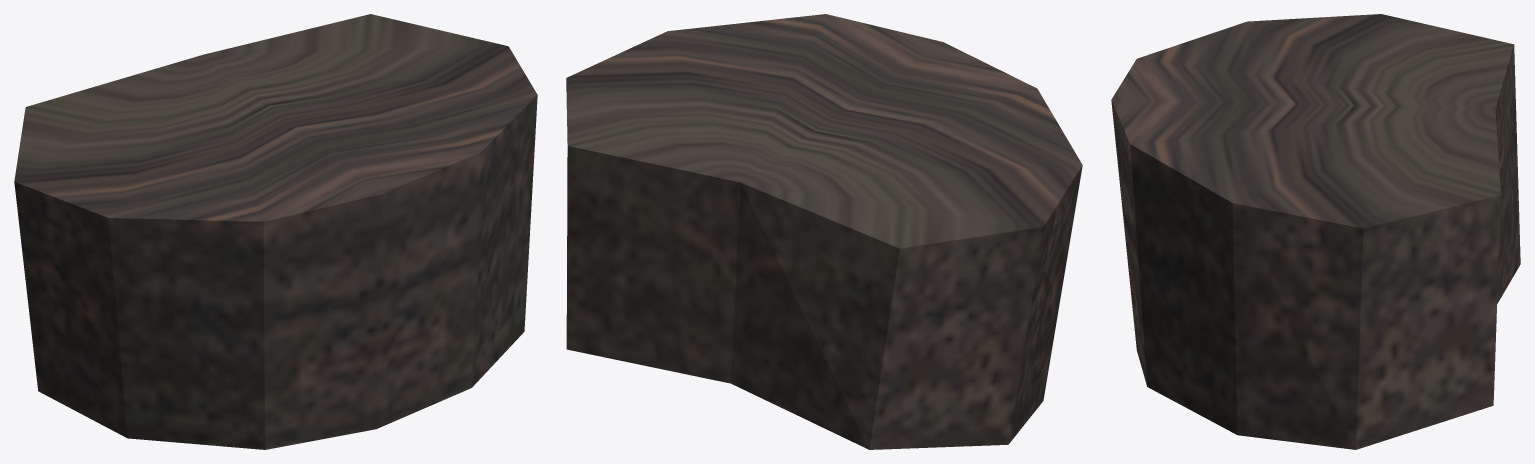
File: trompa5.obj
3 views of the same model, side by side, from view 1: azimuth 30°, elevation 25°; view 2: azimuth 150°, elevation 25°; view 3: azimuth 270°, elevation 25° (orthographic).
Parts seen in each view (by area): view 1: pasted__polySurface9 pasted__polySurface8 pasted__polySurface6 p; view 2: pasted__polySurface9 pasted__polySurface8 pasted__polySurface6 p; view 3: pasted__polySurface9 pasted__polySurface8 pasted__polySurface6 p.
Part boxes in pixels (x1=…): pasted__polySurface9 pasted__polySurface8 pasted__polySurface6 p: x1=14, y1=14, x2=537, y2=449; pasted__polySurface9 pasted__polySurface8 pasted__polySurface6 p: x1=566, y1=14, x2=1082, y2=449; pasted__polySurface9 pasted__polySurface8 pasted__polySurface6 p: x1=1111, y1=14, x2=1520, y2=449.
Size of the model in its own units: 1.45 by 0.7624 by 1.05.
1 material, 1 textured.
